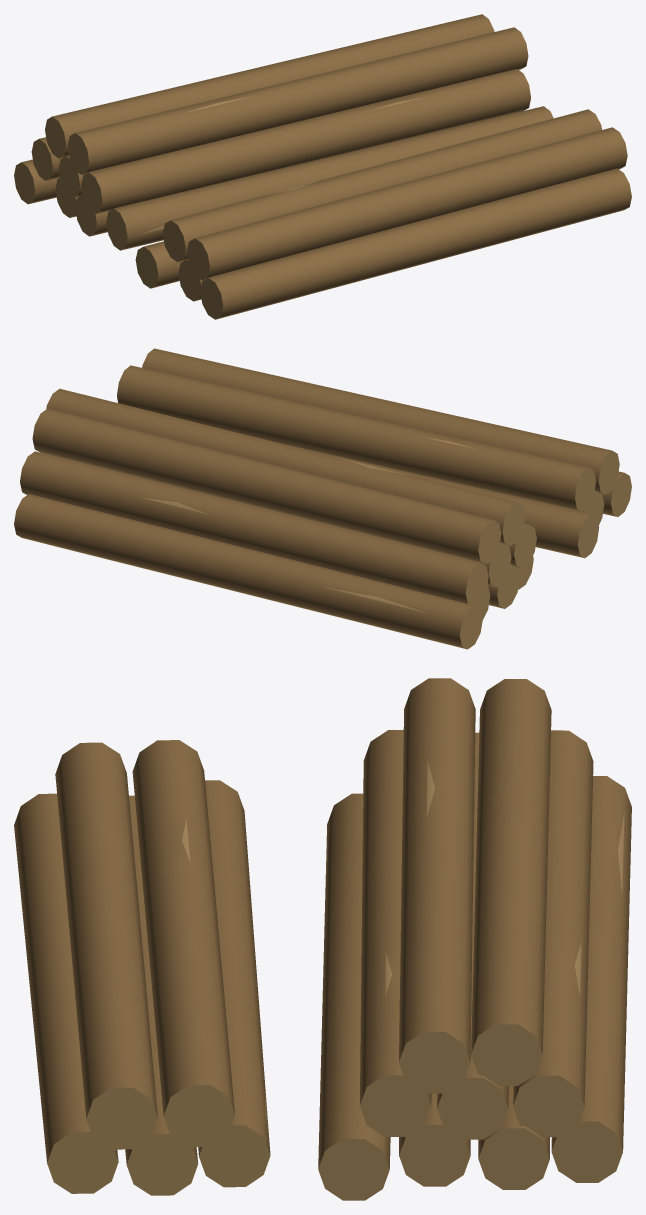
The model's file is Logs.glb.
The picture shows the model from 3 angles, top to bottom: view 1: azimuth 30°, elevation 25°; view 2: azimuth 150°, elevation 25°; view 3: azimuth 270°, elevation 25°; orthographic projection. The views are drawn at different scales.
Visible parts, largest first — view 1: Logs; view 2: Logs; view 3: Logs.
Boxes of the visible parts, x1,y1,x2,y2 form: Logs: (14, 14, 631, 319); Logs: (14, 348, 631, 649); Logs: (14, 678, 631, 1200).
Size of the model in its own units: 1.16 by 0.2457 by 0.8352.
